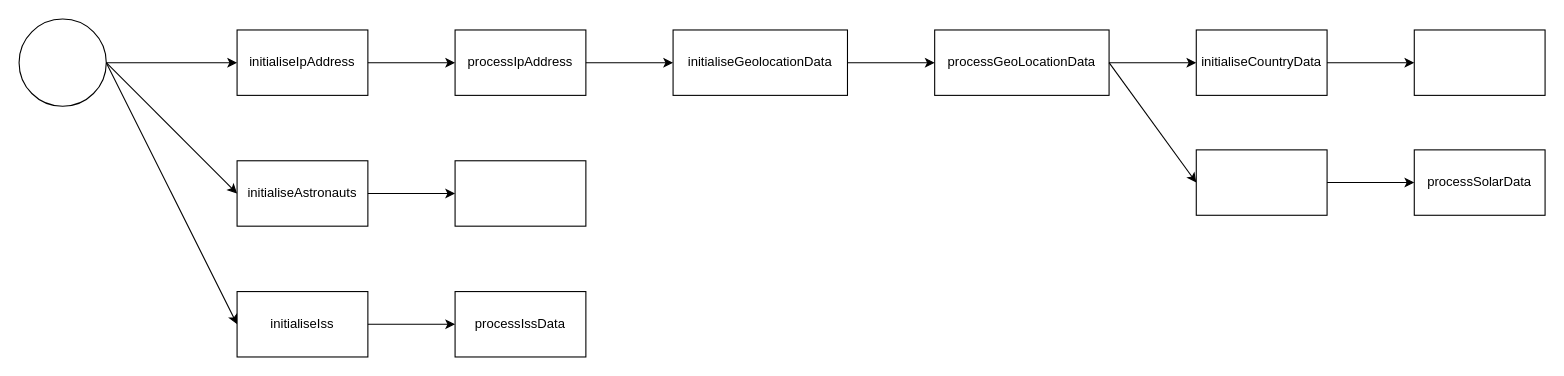
Image size: 1564x376. Some labels were removed from this diagram. The shapes that lost their labels are listed below. From the top down, each one's box as (x1, y1, x2, y2) in pixels, then its label:
(18, 18, 106, 106): page load
(1413, 29, 1545, 95): processCountryData
(454, 160, 586, 226): processAstroData
(1195, 149, 1327, 215): initialiseSolarData
